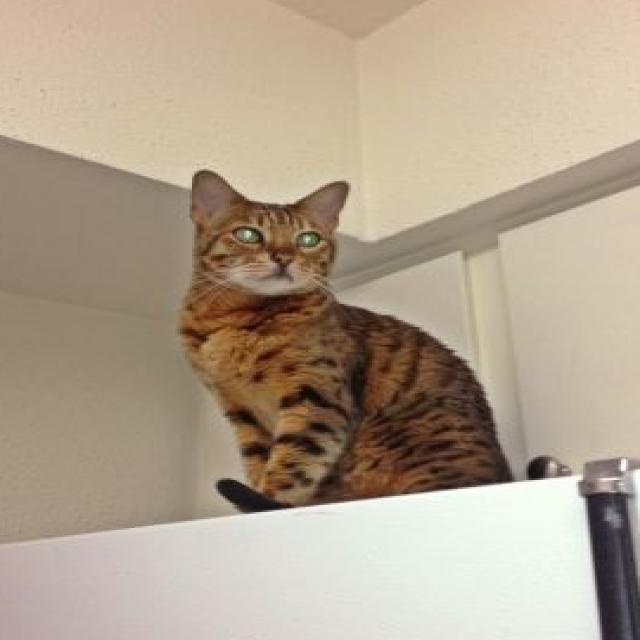Bengal: (178, 166, 522, 521)
